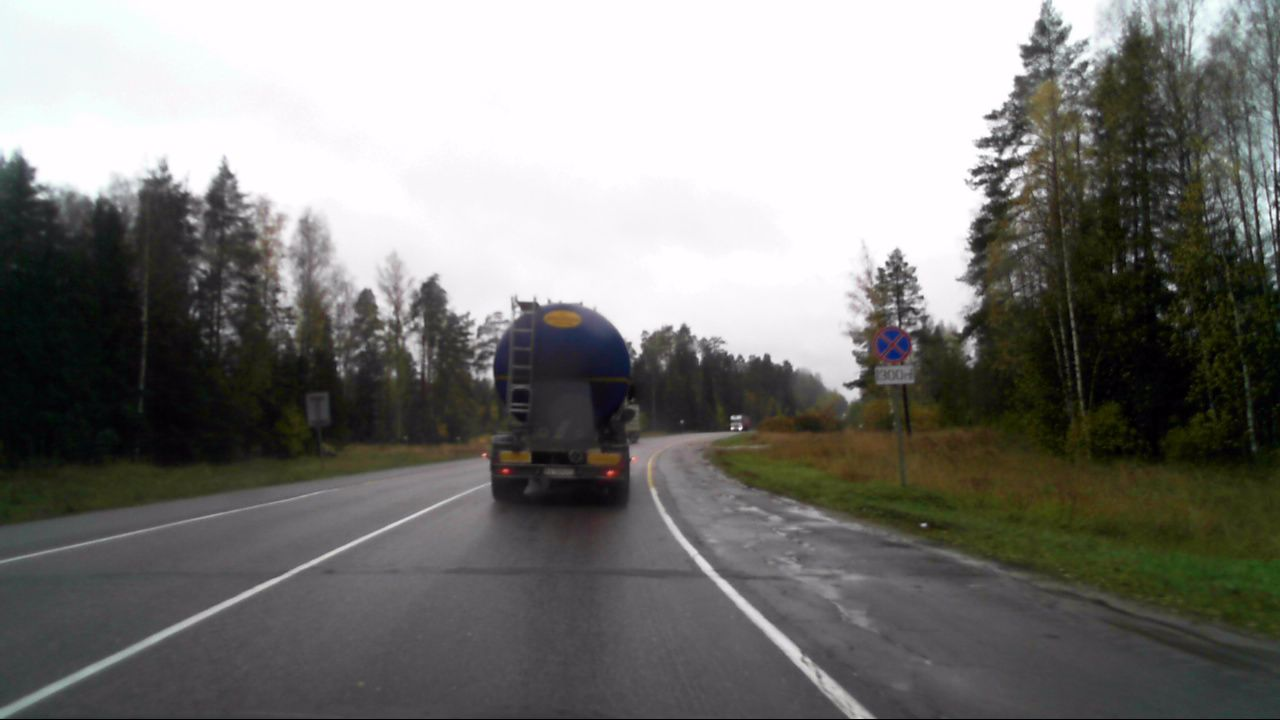No Parking: (872, 322, 912, 364)
